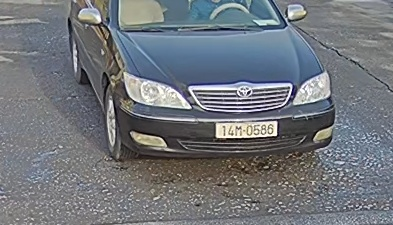vehicle plate: (211, 120, 279, 140)
